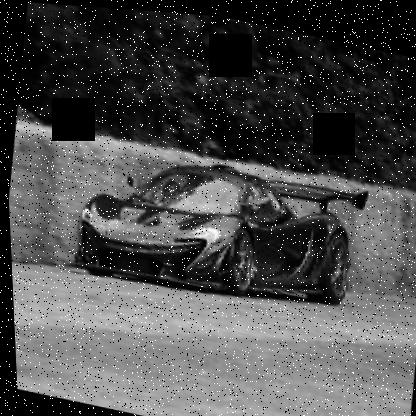not_emergency: (57, 125, 404, 341)
